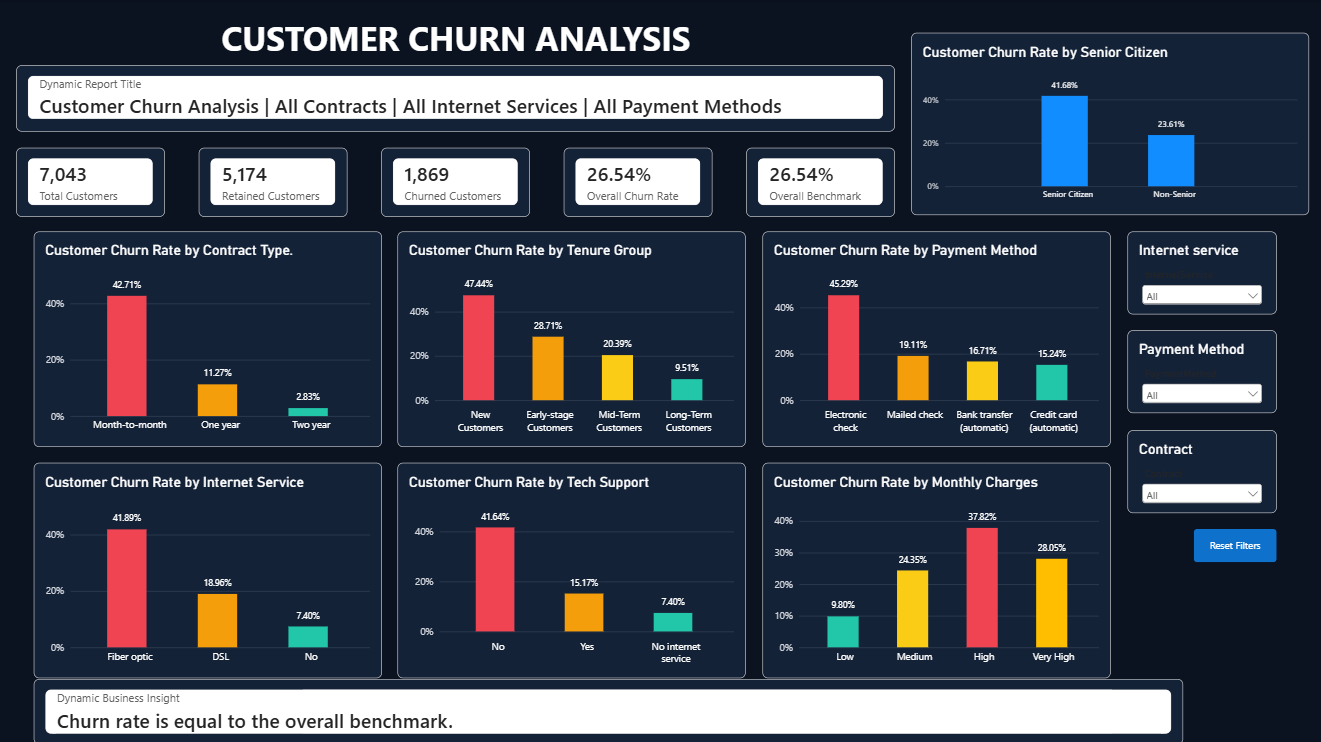

This screenshot's page, from the dashboard's own definition file:
{"tool":"powerbi","page":{"name":"Executive Overview","canvas":[1920,1080],"ordinal":0},"visuals":[{"type":"cardVisual","fields":{"Data":["customer_churn_cleaned.Total Customers"]},"box":[24,216,215,100],"z":0},{"type":"cardVisual","fields":{"Data":["customer_churn_cleaned.Churned Customer"]},"box":[552,216,215,100],"z":1000},{"type":"cardVisual","fields":{"Data":["customer_churn_cleaned.Retained Customers"]},"box":[288,216,215,100],"z":2000},{"type":"cardVisual","fields":{"Data":["customer_churn_cleaned.Overall Churn Rate"]},"box":[816,216,215,100],"z":3000},{"type":"clusteredColumnChart","title":"Customer Churn Rate by Contract Type.","fields":{"Category":["customer_churn_cleaned.Contract"],"Y":["customer_churn_cleaned.Overall Churn Rate"]},"box":[48,336,504,312],"z":4000},{"type":"clusteredColumnChart","title":"Customer Churn Rate by Tenure Group","fields":{"Category":["customer_churn_cleaned.Tenure Group"],"Y":["customer_churn_cleaned.Overall Churn Rate"]},"box":[576,336,504,312],"z":5000},{"type":"clusteredColumnChart","title":"Customer Churn Rate by Payment Method","fields":{"Category":["customer_churn_cleaned.PaymentMethod"],"Y":["customer_churn_cleaned.Overall Churn Rate"]},"box":[1104,336,504,312],"z":6000},{"type":"clusteredColumnChart","title":"Customer Churn Rate by Internet Service","fields":{"Category":["customer_churn_cleaned.InternetService"],"Y":["customer_churn_cleaned.Overall Churn Rate"]},"box":[48,672,504,312],"z":7000},{"type":"clusteredColumnChart","title":"Customer Churn Rate by Tech Support","fields":{"Category":["customer_churn_cleaned.TechSupport"],"Y":["customer_churn_cleaned.Overall Churn Rate"]},"box":[576,672,504,312],"z":8000},{"type":"clusteredColumnChart","title":"Customer Churn Rate by Monthly Charges","fields":{"Category":["customer_churn_cleaned.Monthly Charge Group"],"Y":["customer_churn_cleaned.Overall Churn Rate"]},"box":[1104,672,504,312],"z":9000},{"type":"clusteredColumnChart","title":"Customer Churn Rate by Senior Citizen","fields":{"Category":["customer_churn_cleaned.Senior Citizen Category"],"Y":["customer_churn_cleaned.Overall Churn Rate"]},"box":[1320,48,576,264],"z":10000},{"type":"slicer","title":"Contract","fields":{"Values":["customer_churn_cleaned.Contract"]},"box":[1632,624,216,120],"z":11000},{"type":"slicer","title":"Internet service","fields":{"Values":["customer_churn_cleaned.InternetService"]},"box":[1632,336,216,120],"z":12000},{"type":"slicer","title":"Payment Method","fields":{"Values":["customer_churn_cleaned.PaymentMethod"]},"box":[1632,480,216,120],"z":13000},{"type":"cardVisual","fields":{"Data":["customer_churn_cleaned.Dynamic Report Title"]},"box":[24,96,1272,96],"z":14000},{"type":"cardVisual","fields":{"Data":["customer_churn_cleaned.Overall Churn Benchmark"]},"box":[1080,216,215,100],"z":15000},{"type":"cardVisual","fields":{"Data":["customer_churn_cleaned.Dynamic Business Insight"]},"box":[48,984,1664,96],"z":16000},{"type":"actionButton","box":[1728,768,120,48],"z":17000},{"type":"textbox","box":[0,24,1320,168],"z":18000}]}

Visuals, with their boxes in screenshot pixels (x1, y1, x2, y2), scaled from the page's 1920x1080 canvas onto the 1321x742 screenshot:
cardVisual - customer_churn_cleaned.Total Customers: crop(17, 148, 164, 217)
cardVisual - customer_churn_cleaned.Churned Customer: crop(380, 148, 528, 217)
cardVisual - customer_churn_cleaned.Retained Customers: crop(198, 148, 346, 217)
cardVisual - customer_churn_cleaned.Overall Churn Rate: crop(561, 148, 709, 217)
"Customer Churn Rate by Contract Type." clusteredColumnChart: crop(33, 231, 380, 445)
"Customer Churn Rate by Tenure Group" clusteredColumnChart: crop(396, 231, 743, 445)
"Customer Churn Rate by Payment Method" clusteredColumnChart: crop(760, 231, 1106, 445)
"Customer Churn Rate by Internet Service" clusteredColumnChart: crop(33, 462, 380, 676)
"Customer Churn Rate by Tech Support" clusteredColumnChart: crop(396, 462, 743, 676)
"Customer Churn Rate by Monthly Charges" clusteredColumnChart: crop(760, 462, 1106, 676)
"Customer Churn Rate by Senior Citizen" clusteredColumnChart: crop(908, 33, 1304, 214)
"Contract" slicer: crop(1123, 429, 1271, 511)
"Internet service" slicer: crop(1123, 231, 1271, 313)
"Payment Method" slicer: crop(1123, 330, 1271, 412)
cardVisual - customer_churn_cleaned.Dynamic Report Title: crop(17, 66, 892, 132)
cardVisual - customer_churn_cleaned.Overall Churn Benchmark: crop(743, 148, 891, 217)
cardVisual - customer_churn_cleaned.Dynamic Business Insight: crop(33, 676, 1178, 741)
actionButton: crop(1189, 528, 1271, 561)
textbox: crop(0, 16, 908, 132)
